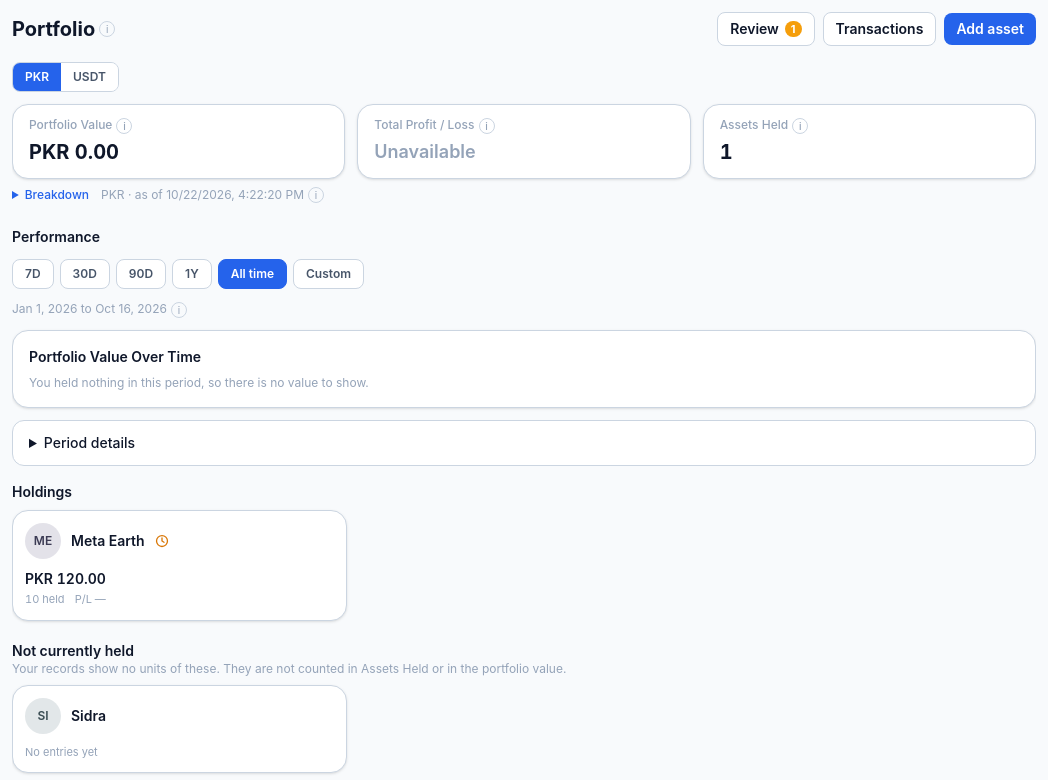
Test case: Review center › flags a price you entered more than a week ago and asks for an update
This screenshot has width=1048, height=780.
Click the button "Review 1".
click(766, 29)  # box [717,12,815,46]
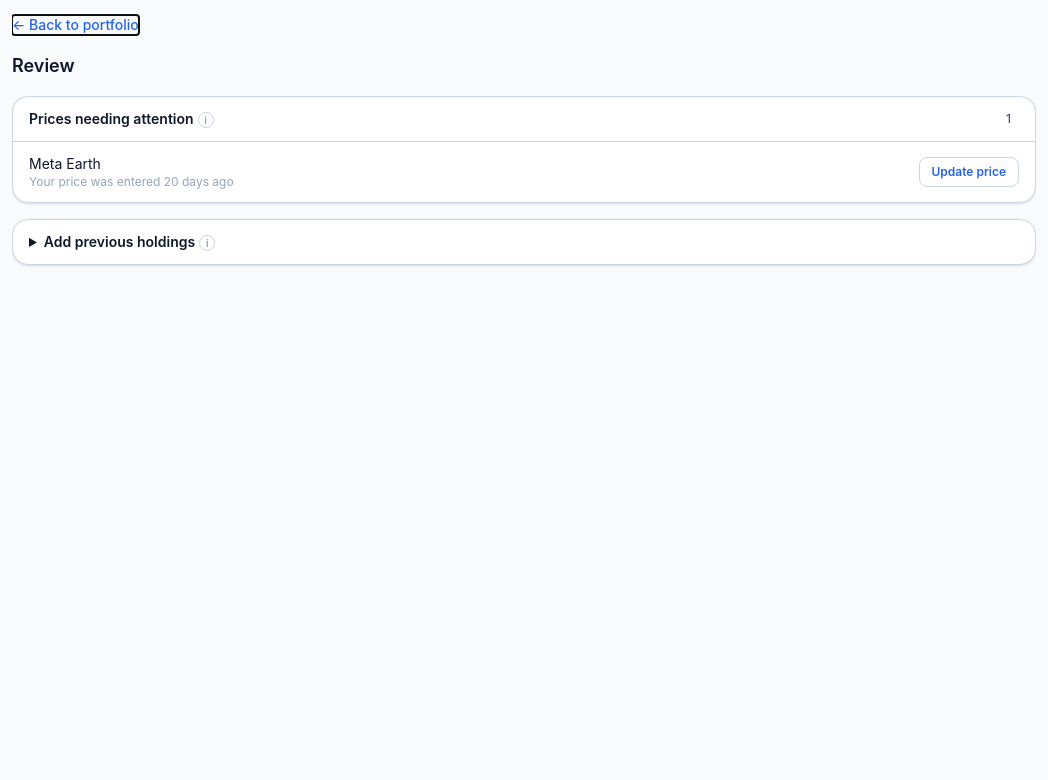
Result: the text "Your price was entered 20 days ago" is shown at [29,174,234,190]
Result: the button with aria-label "Update price: Meta Earth" is shown at [918,157,1019,187]
